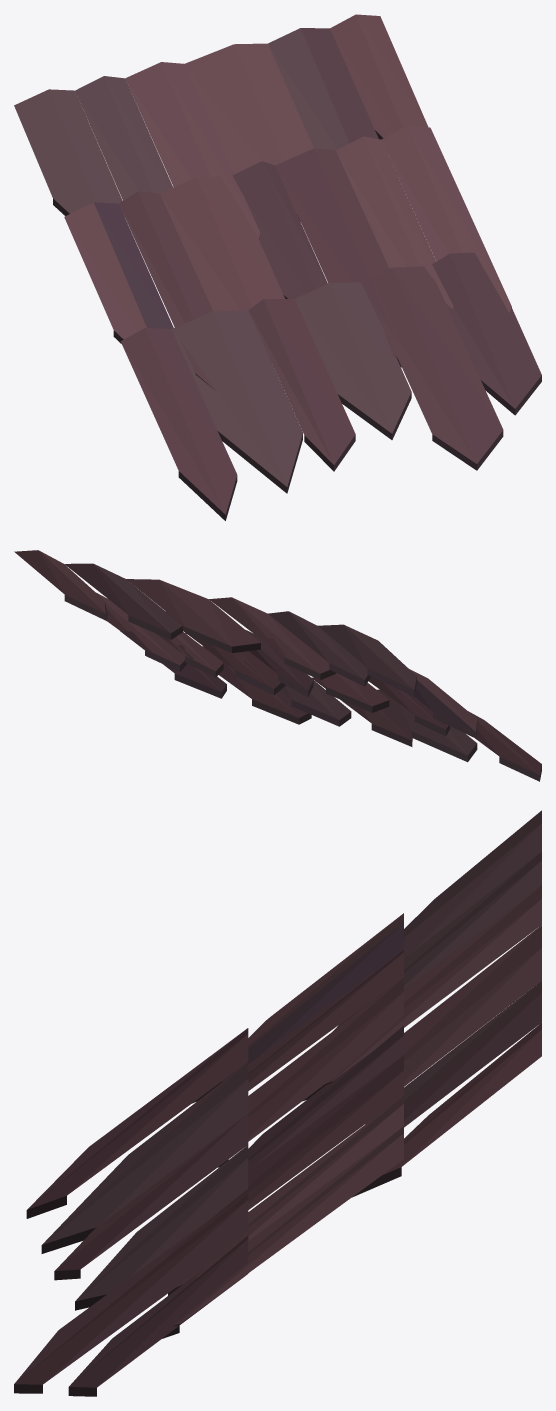
File: SplitCedar43.glb
3 renders of one model, top to bottom at view 1: azimuth 30°, elevation 25°; view 2: azimuth 150°, elevation 25°; view 3: azimuth 270°, elevation 25°, orthographic. The views are drawn at different scales.
Parts seen in each view (by area): view 1: SplitCedar43; view 2: SplitCedar43; view 3: SplitCedar43.
Part boxes in pixels (x1,y1,x2,y2): SplitCedar43: [14, 14, 541, 520]; SplitCedar43: [14, 550, 541, 781]; SplitCedar43: [14, 810, 541, 1396].
Size of the model in its own units: 2.02 by 1.58 by 1.83.
